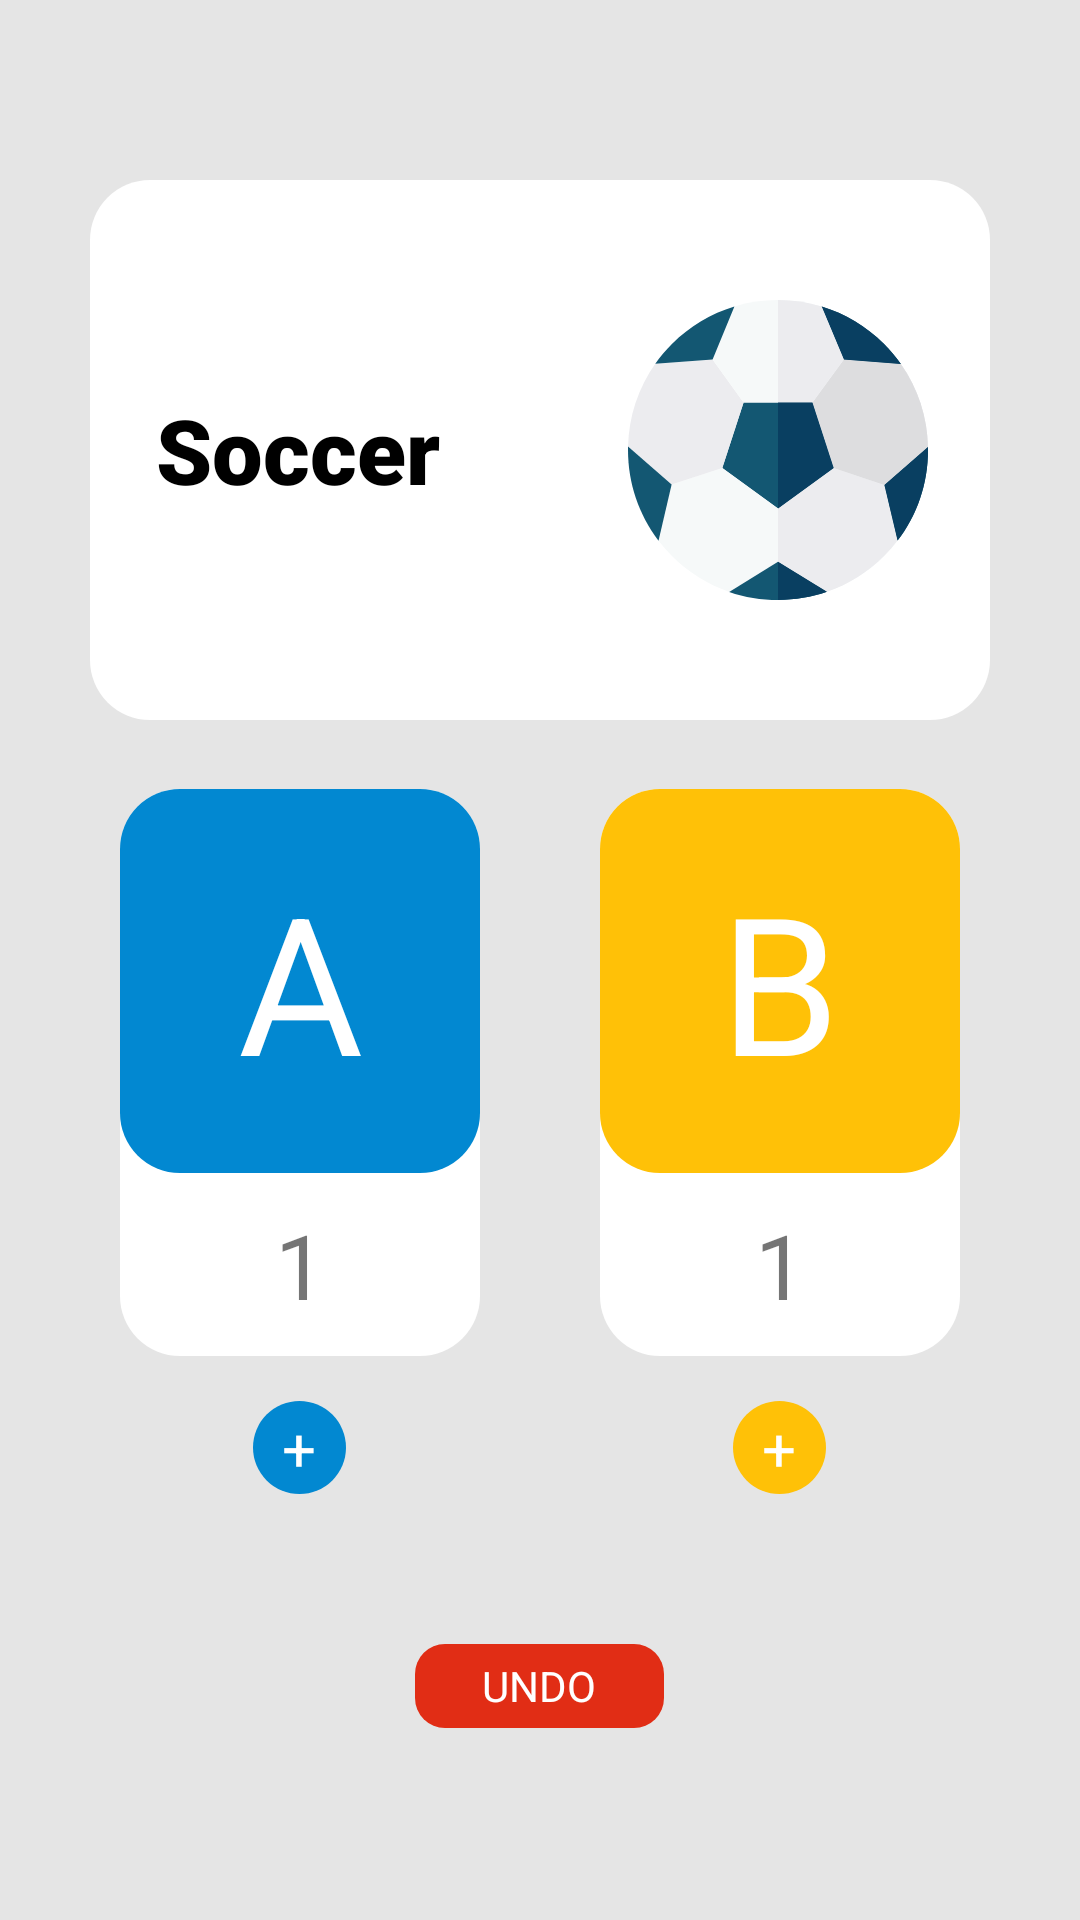

Screen size 1080 x 1920. Icon name, then its center in pixels as (x=x, y=y):
this is football: (x=778, y=450)
